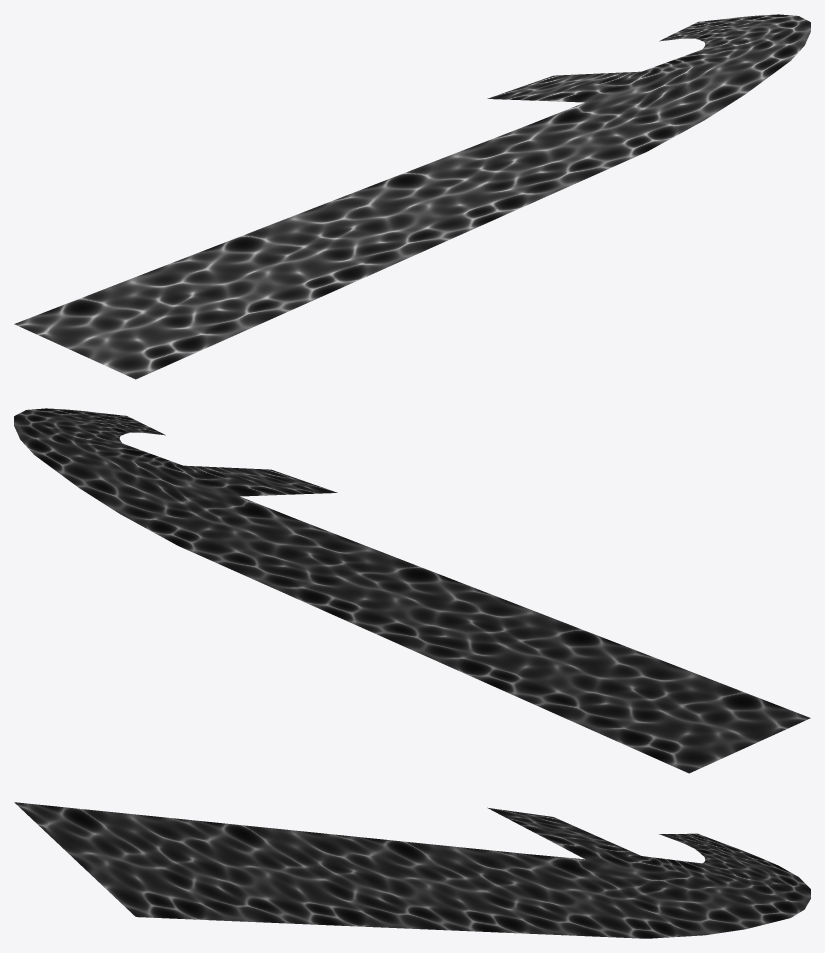
The model's file is eff_ChapterTitle07Parts.fbx.
The picture shows the model from 3 angles, top to bottom: view 1: azimuth 30°, elevation 25°; view 2: azimuth 150°, elevation 25°; view 3: azimuth 330°, elevation 25°; orthographic projection.
Parts seen in each view (by area): view 1: eff_ChapterTitle07Parts0101_msh; view 2: eff_ChapterTitle07Parts0101_msh; view 3: eff_ChapterTitle07Parts0101_msh.
Part boxes in pixels (left/top/right/bottom): eff_ChapterTitle07Parts0101_msh: left=14, top=14, right=810, bottom=379; eff_ChapterTitle07Parts0101_msh: left=14, top=408, right=810, bottom=773; eff_ChapterTitle07Parts0101_msh: left=14, top=802, right=810, bottom=938.
Bounding box in the file's own units: 146 × 38.71 × 1.79e-14.
